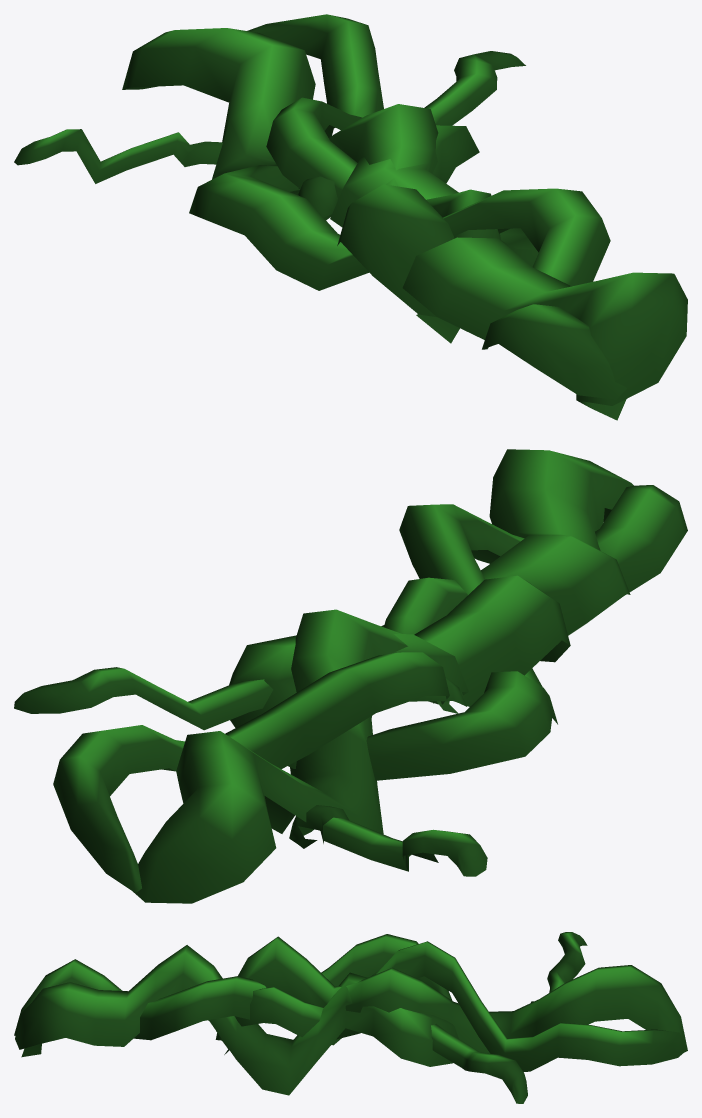
Rendered from vine8.fbx.
3 renders of one model, top to bottom at view 1: azimuth 30°, elevation 25°; view 2: azimuth 150°, elevation 25°; view 3: azimuth 270°, elevation 25°, orthographic. The views are drawn at different scales.
Parts seen in each view (by area): view 1: pCube94; view 2: pCube94; view 3: pCube94.
Part boxes in pixels (x1,y1,x2,y2): pCube94: [14, 14, 687, 420]; pCube94: [14, 449, 687, 903]; pCube94: [14, 932, 687, 1103].
Bounding box in the file's own units: 67.83 × 19.77 × 112.
